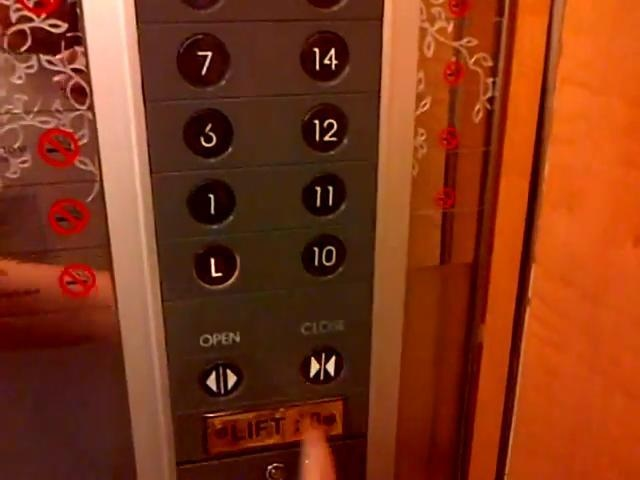1: (184, 178, 240, 231)
10: (298, 232, 348, 281)
11: (301, 172, 350, 222)
12: (297, 100, 355, 158)
14: (298, 27, 351, 87)
7: (175, 31, 236, 93)
L: (188, 243, 245, 291)
blur: (181, 106, 235, 163)
close: (299, 341, 347, 387)
open: (197, 357, 246, 401)
